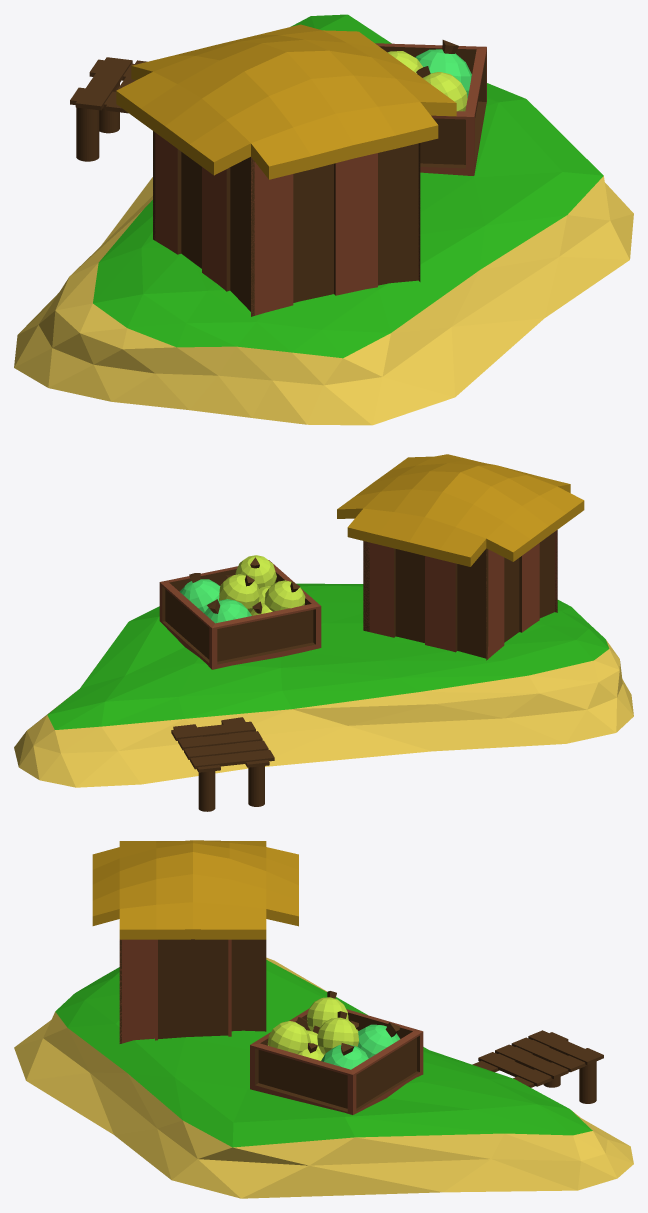
The model's file is outpost.fbx.
The picture shows the model from 3 angles, top to bottom: view 1: azimuth 30°, elevation 25°; view 2: azimuth 150°, elevation 25°; view 3: azimuth 270°, elevation 25°; orthographic projection. The views are drawn at different scales.
Visible parts, largest first — view 1: Island, Cube, Cube.002, Cube.005, Sphere.002, Sphere.006; view 2: Island, Cube, Cube.002, Cube.005, Sphere.005, Sphere.007, Sphere.002, Sphere.006, Sphere; view 3: Island, Cube, Cube.002, Cube.001, Cube.005, Sphere.005, Sphere.006, Sphere, Sphere.007, Sphere.002.
Part boxes in pixels (left/top/right/bottom): Island: left=14, top=14, right=633, bottom=425; Cube: left=116, top=24, right=456, bottom=316; Cube.002: left=375, top=43, right=486, bottom=175; Cube.005: left=70, top=57, right=147, bottom=161; Sphere.002: left=415, top=40, right=471, bottom=97; Sphere.006: left=416, top=66, right=467, bottom=111; Island: left=14, top=583, right=633, bottom=787; Cube: left=337, top=454, right=584, bottom=660; Cube.002: left=159, top=560, right=321, bottom=669; Cube.005: left=171, top=717, right=274, bottom=811; Sphere.005: left=219, top=574, right=259, bottom=612; Sphere.007: left=264, top=580, right=305, bottom=611; Sphere.002: left=179, top=573, right=220, bottom=613; Sphere.006: left=235, top=555, right=276, bottom=588; Sphere: left=204, top=599, right=251, bottom=623; Island: left=14, top=957, right=633, bottom=1198; Cube: left=92, top=840, right=298, bottom=1043; Cube.002: left=250, top=1009, right=423, bottom=1114; Cube.001: left=155, top=939, right=231, bottom=1040; Cube.005: left=472, top=1030, right=603, bottom=1103; Sphere.005: left=317, top=1011, right=358, bottom=1054; Sphere.006: left=267, top=1017, right=310, bottom=1054; Sphere: left=357, top=1022, right=399, bottom=1058; Sphere.007: left=307, top=991, right=348, bottom=1031; Sphere.002: left=321, top=1043, right=368, bottom=1069.
Size of the model in its own units: 738 by 328 by 848.
